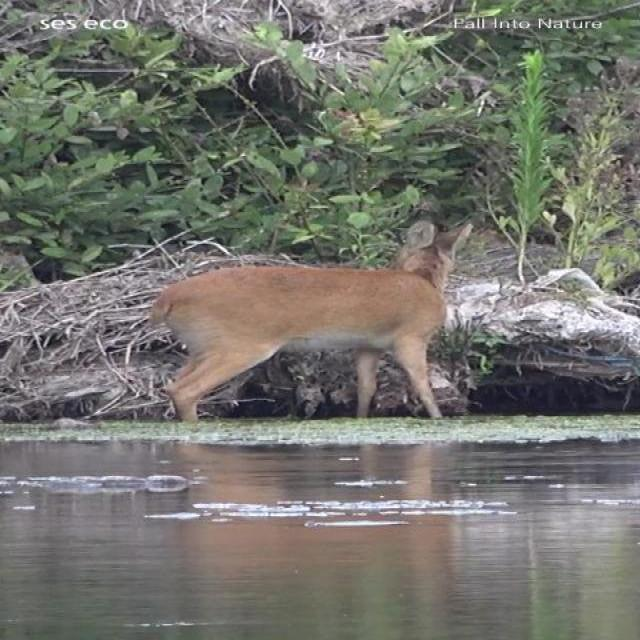deer: (146, 222, 480, 419)
